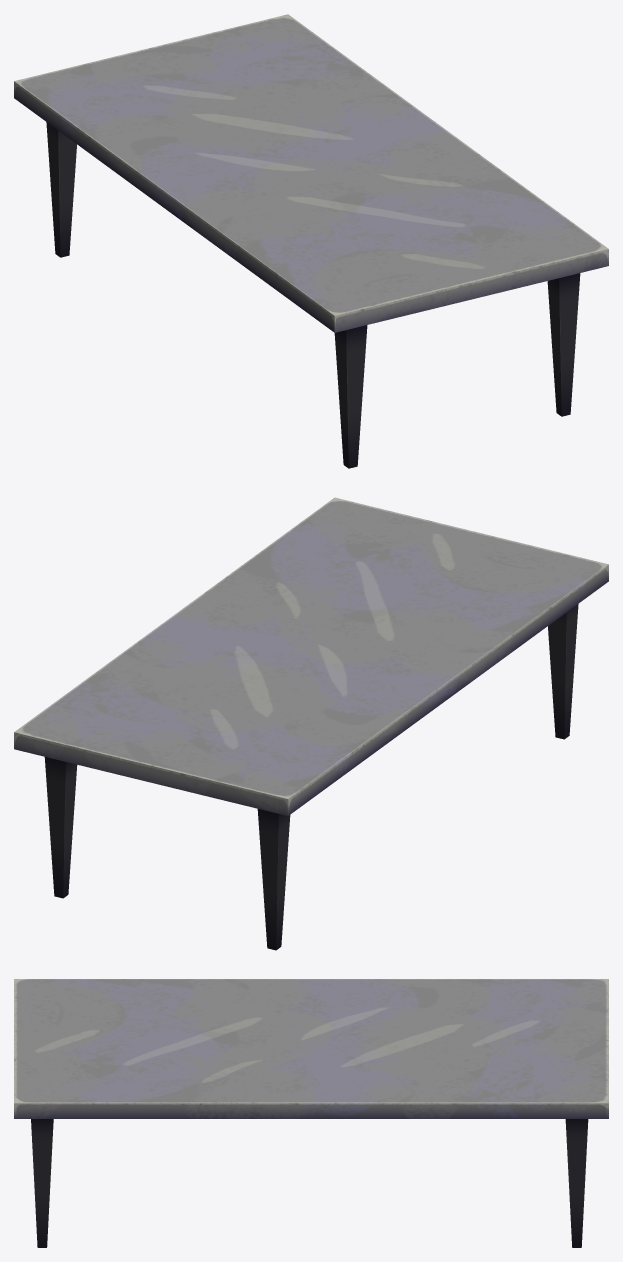
The model's file is Table.fbx.
3 views of the same model, one above another, from view 1: azimuth 30°, elevation 25°; view 2: azimuth 150°, elevation 25°; view 3: azimuth 270°, elevation 25° (orthographic). The views are drawn at different scales.
Parts seen in each view (by area): view 1: table_mesh; view 2: table_mesh; view 3: table_mesh.
Boxes of the visible parts, bbox=[...] form: table_mesh: bbox=[14, 14, 608, 468]; table_mesh: bbox=[14, 497, 608, 950]; table_mesh: bbox=[14, 979, 608, 1247].
Size of the model in its own units: 10.5 by 6.17 by 21.27.
